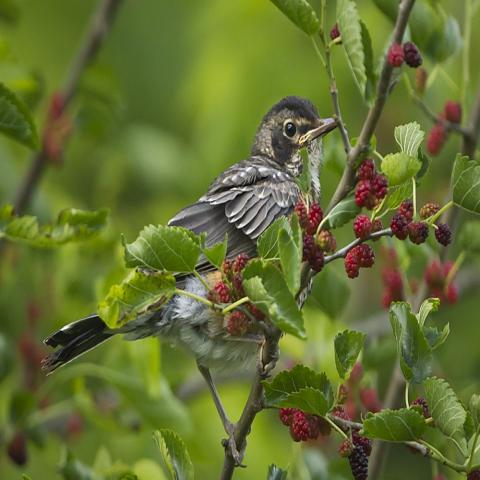bird: (36, 95, 339, 382)
